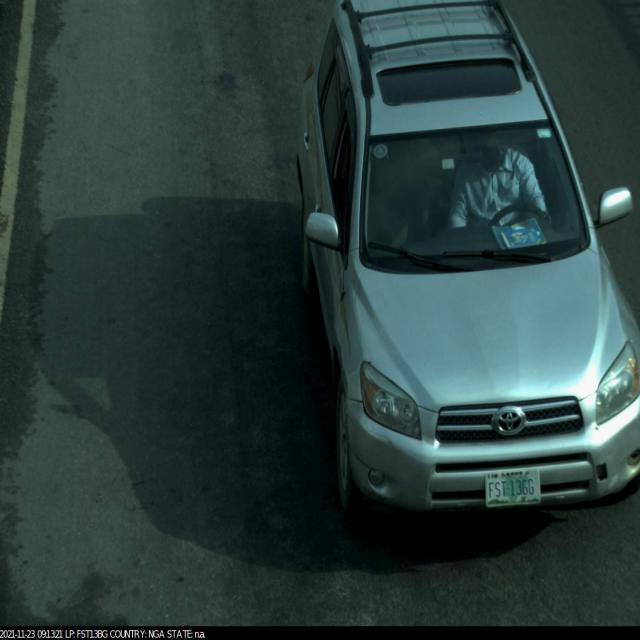windshield: (340, 107, 602, 285)
